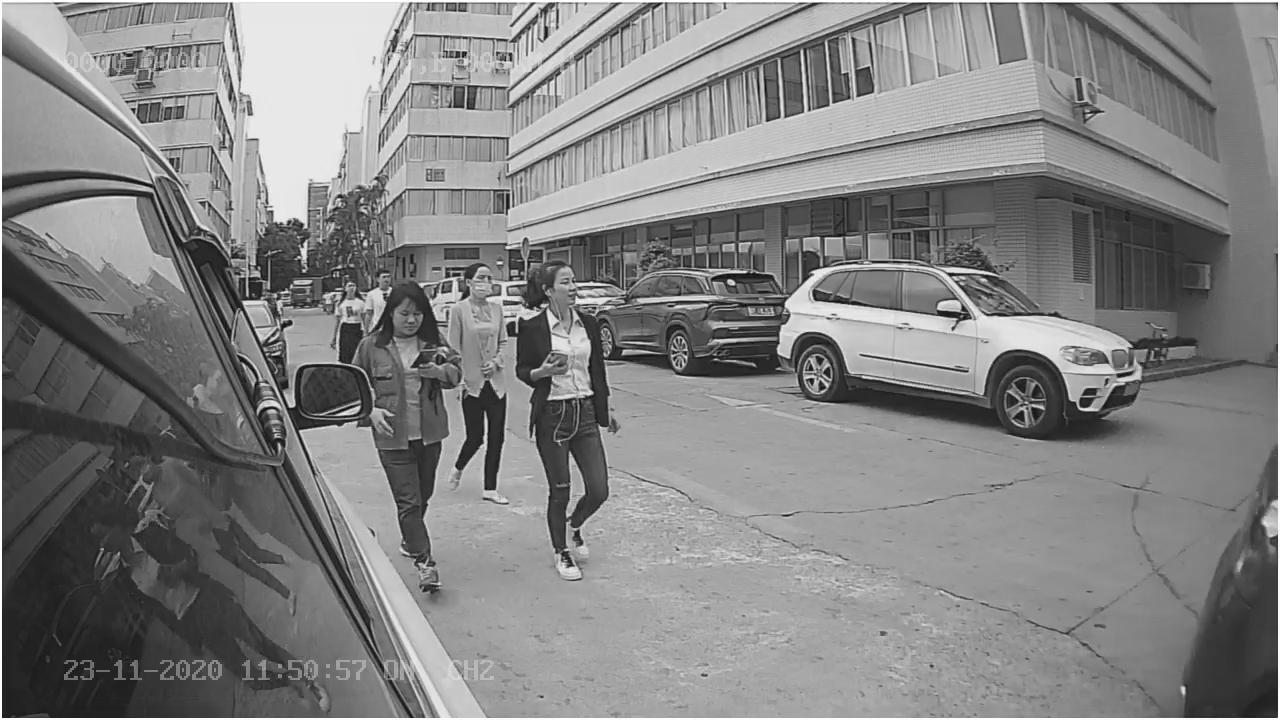person: (509, 257, 639, 584)
